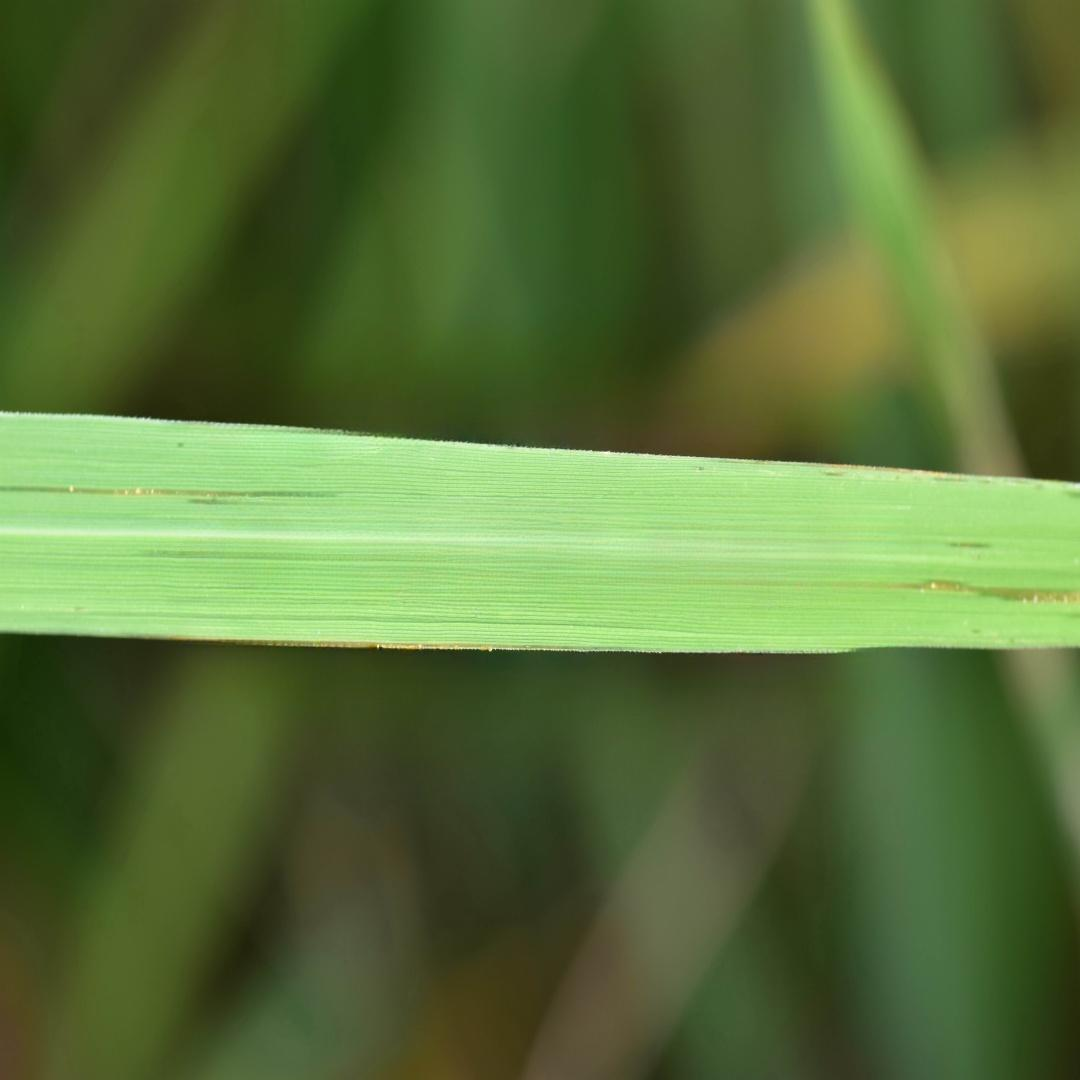BLS: (112, 636, 699, 651), (768, 579, 1078, 603), (1, 485, 339, 497)
LEAF: (0, 412, 1079, 652)
